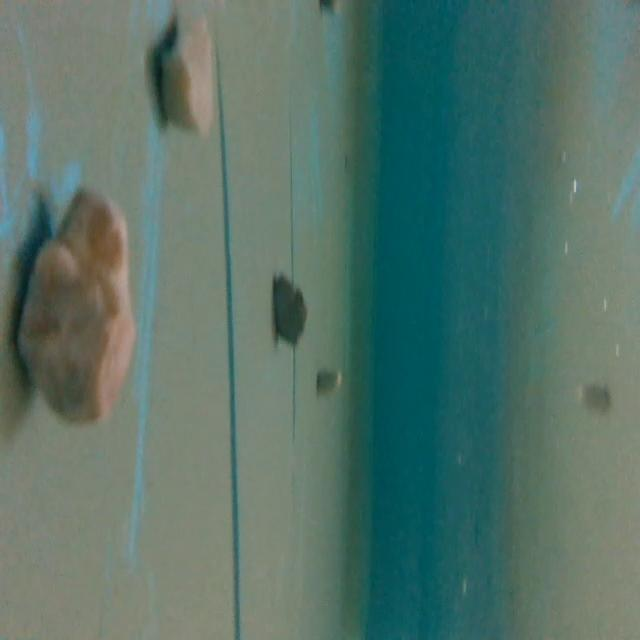rock: (12, 191, 142, 428), (157, 7, 215, 139), (267, 270, 309, 348), (311, 367, 348, 397)
